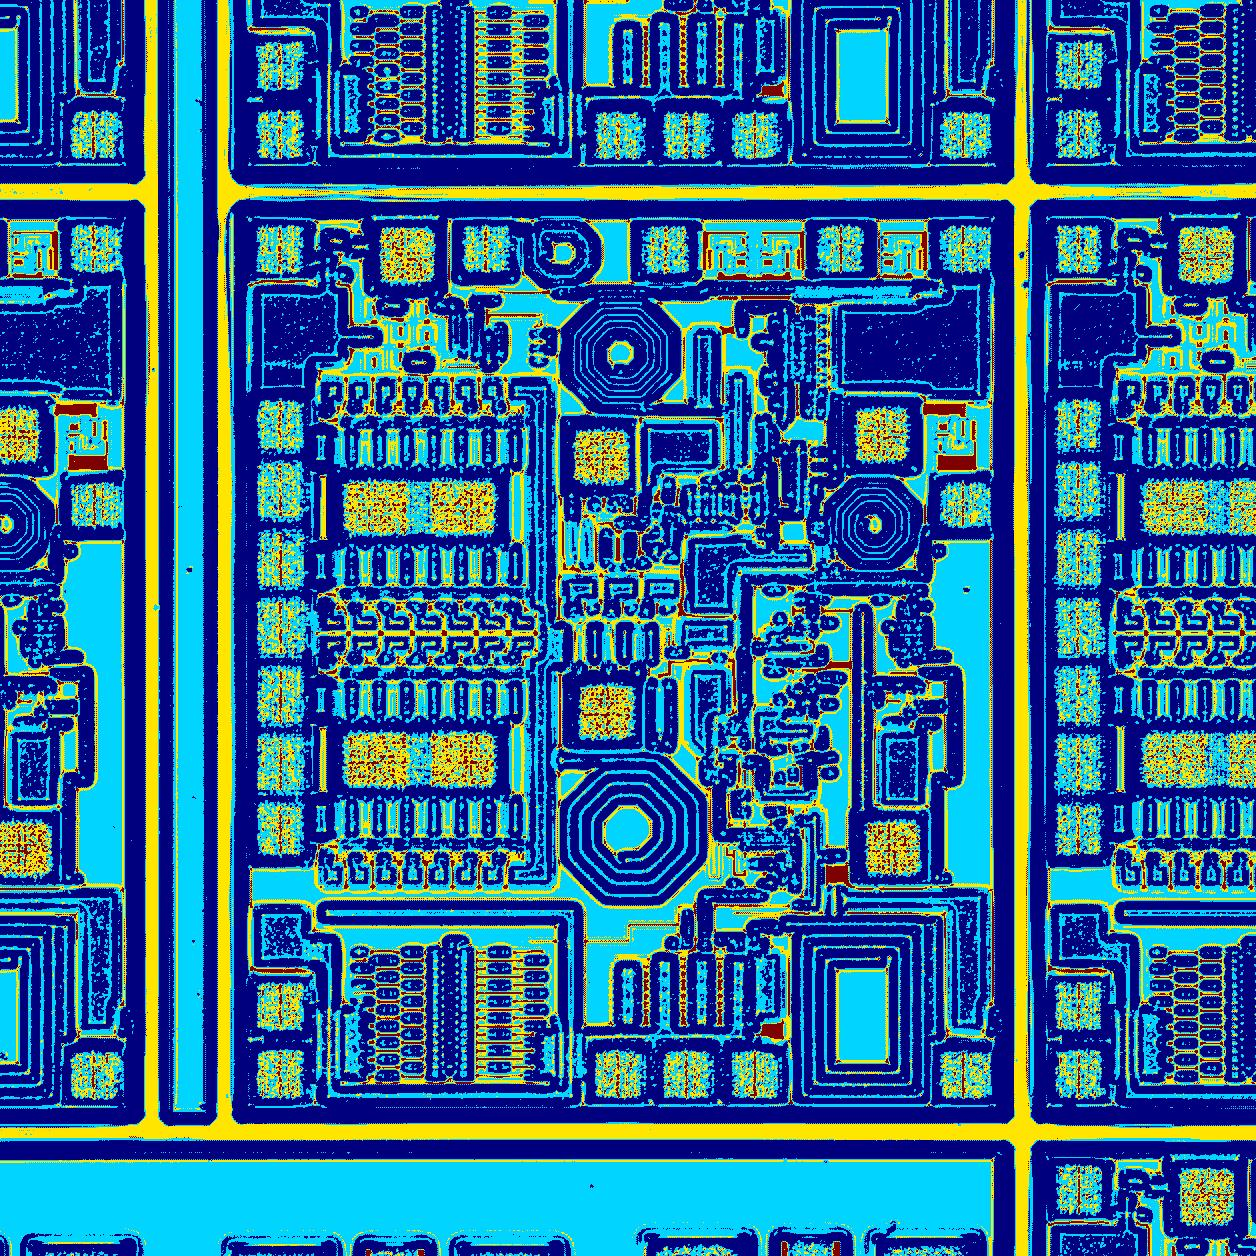Die: (230, 198, 1014, 1124)
Pad 1: (428, 729, 497, 788), (344, 730, 412, 789), (430, 477, 498, 535), (343, 478, 409, 535), (865, 820, 921, 876), (380, 228, 436, 284), (579, 683, 635, 738), (855, 407, 910, 464), (573, 429, 628, 484)
Pad 2: (255, 596, 307, 657), (256, 733, 306, 794), (256, 665, 305, 726), (255, 460, 304, 521), (256, 530, 306, 589), (256, 801, 305, 855), (256, 398, 305, 452), (940, 1051, 991, 1098), (256, 1049, 304, 1098), (941, 225, 991, 271), (664, 1051, 712, 1098), (595, 1050, 643, 1097), (256, 982, 304, 1031), (941, 482, 991, 527), (256, 225, 302, 274), (732, 1051, 780, 1097), (642, 227, 688, 274), (464, 225, 511, 271), (818, 227, 864, 271)
